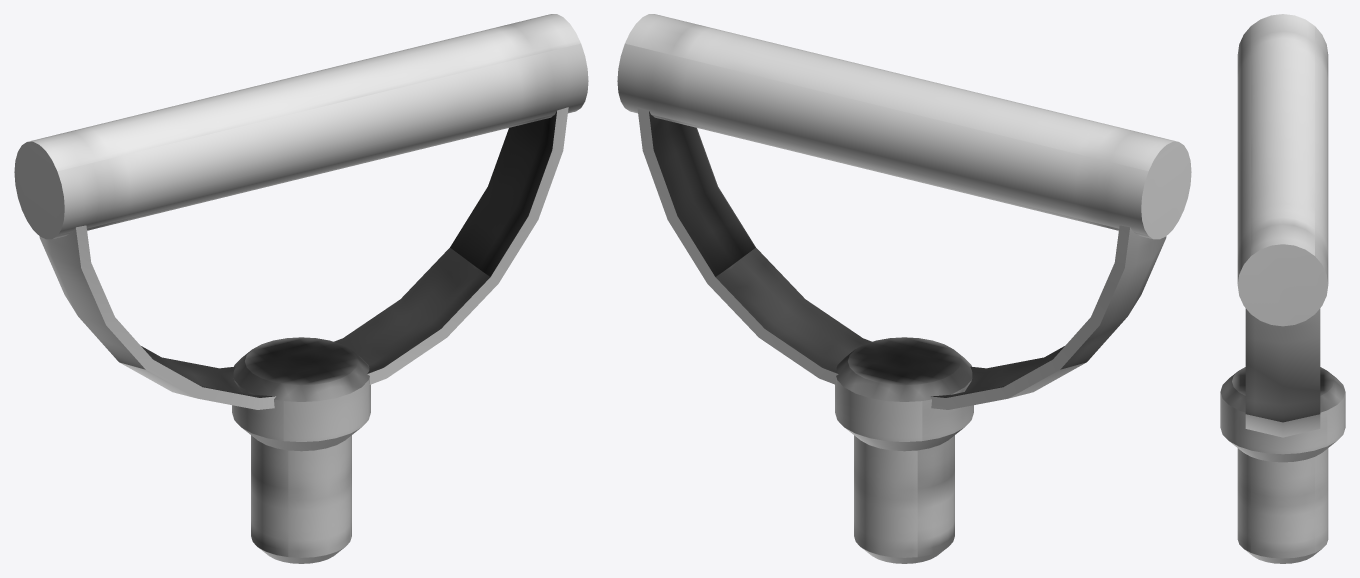
The model's file is backpack_arm02.obj.
3 renders of one model, left to right at view 1: azimuth 30°, elevation 25°; view 2: azimuth 150°, elevation 25°; view 3: azimuth 270°, elevation 25°, orthographic. The views are drawn at different scales.
Visible parts, largest first — view 1: backpack_arm02.obj; view 2: backpack_arm02.obj; view 3: backpack_arm02.obj.
Part boxes in pixels (x1,y1,x2,y2): backpack_arm02.obj: [14, 14, 588, 563]; backpack_arm02.obj: [617, 14, 1191, 563]; backpack_arm02.obj: [1220, 14, 1345, 563].
Size of the model in its own units: 0.1265 by 0.1077 by 0.029.
Materials: 1 (1 with a texture image).
